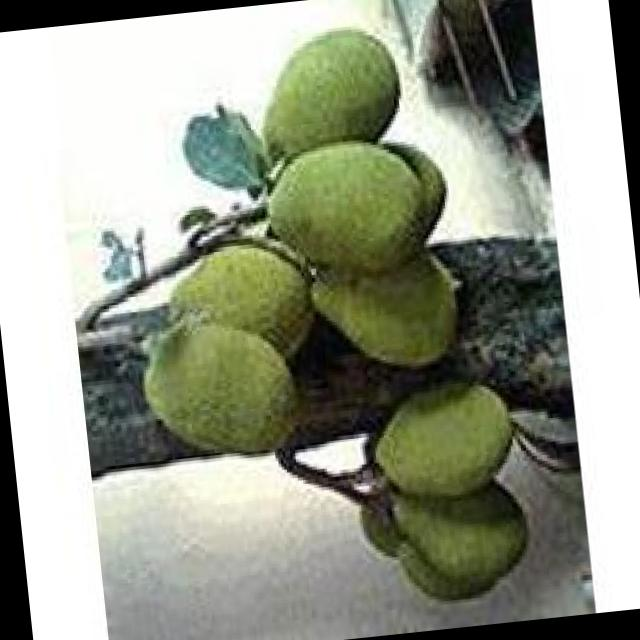Fruit: (217, 0, 479, 327), (94, 197, 342, 493), (340, 354, 544, 536)
